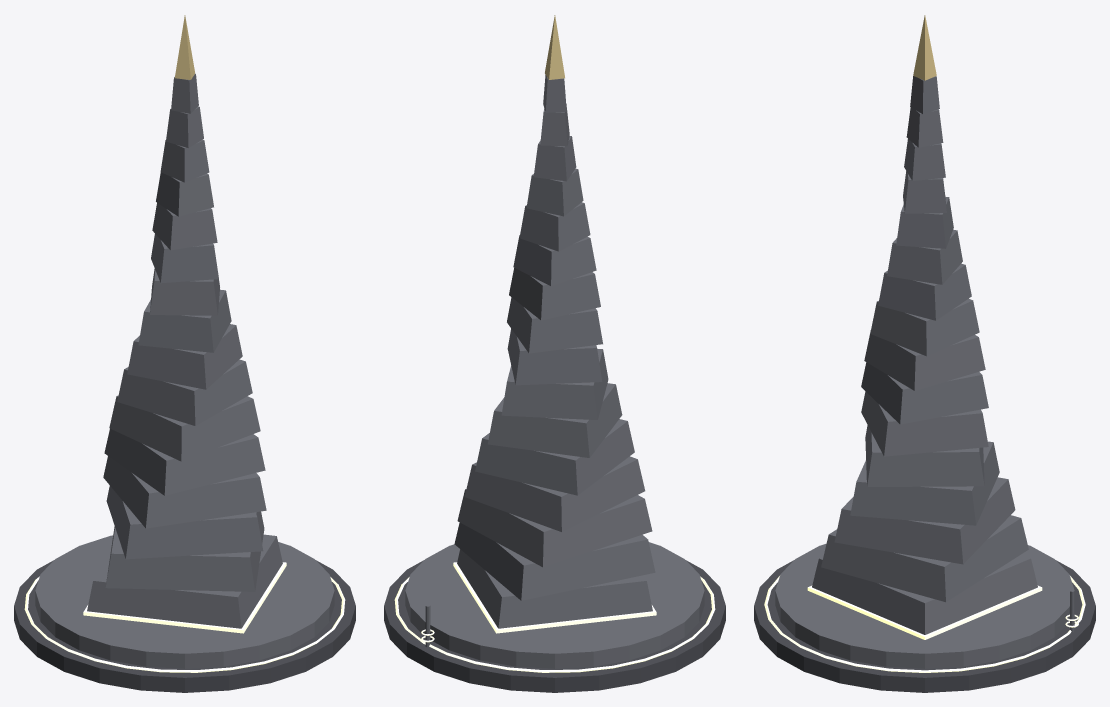
Rendered from zone_high_4_t2.glb.
The picture shows the model from 3 angles, left to right: view 1: azimuth 30°, elevation 25°; view 2: azimuth 150°, elevation 25°; view 3: azimuth 270°, elevation 25°; orthographic projection.
Parts seen in each view (by area): view 1: zone_high_4_t2; view 2: zone_high_4_t2; view 3: zone_high_4_t2.
Boxes of the visible parts, bbox=[...] form: zone_high_4_t2: bbox=[14, 15, 355, 692]; zone_high_4_t2: bbox=[384, 15, 725, 692]; zone_high_4_t2: bbox=[754, 15, 1095, 692].
Bounding box in the file's own units: 28.8 × 56.39 × 28.8.
